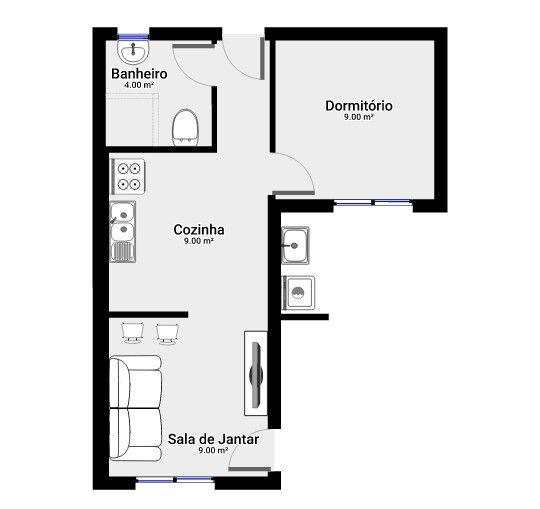wall: (93, 26, 109, 489), (93, 27, 447, 39), (268, 199, 281, 491), (93, 477, 283, 491), (434, 29, 448, 212), (267, 199, 449, 213), (269, 28, 277, 198), (91, 146, 216, 153), (211, 28, 217, 153), (93, 312, 189, 318)
